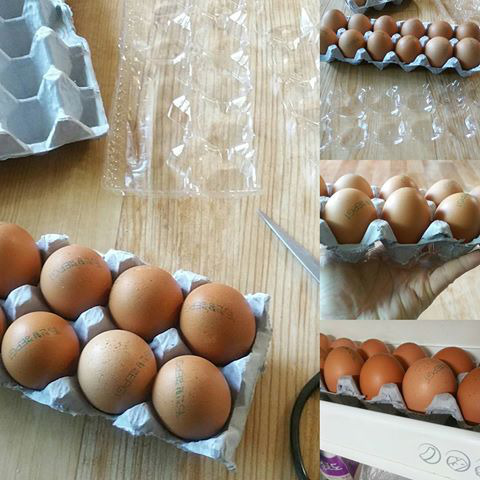egg: (2, 218, 256, 442), (321, 329, 480, 426), (317, 172, 480, 243), (319, 7, 480, 72)
